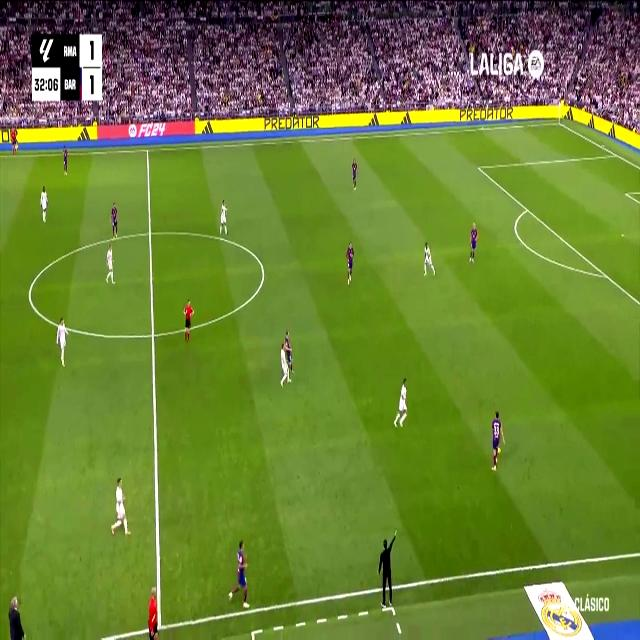bigarea_top_inner: (475, 161, 481, 173)
bottom_arc_area_intersection: (600, 266, 610, 284)
halfcircle_bottom: (148, 322, 158, 346)
halfcircle_top: (144, 222, 156, 243)
midline_bottom_intersection: (154, 612, 166, 636)
midline_top_intersection: (145, 143, 151, 157)
smallarea_top_inner: (624, 188, 629, 198)
top_arc_area_intersection: (524, 202, 530, 215)
